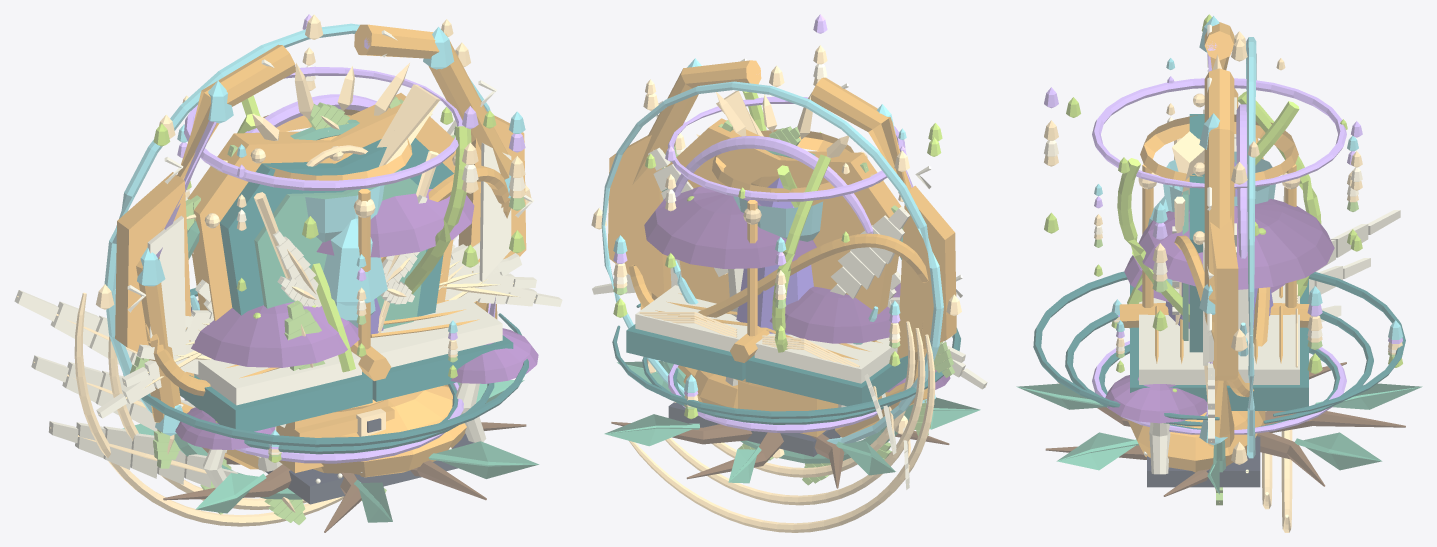
File: spell-redesign.glb
The picture shows the model from 3 angles, left to right: view 1: azimuth 30°, elevation 25°; view 2: azimuth 150°, elevation 25°; view 3: azimuth 270°, elevation 25°; orthographic projection. The views are drawn at different scales.
Parts seen in each view (by area): view 1: Spell_titans_edict_core, Spell_edict_of_the_dawn_core, Spell_poison_cloud_core, Spell_blink_ring, Spell_titans_edict_wing, Spell_lighspeed_core, Spell_roll_ribbon, Spell_poison_cloud_ring, Spell_eternal_edict_orbit, Spell_edict_of_the_dawn_orbit, Spell_lighspeed_ribbon, Spell_lighspeed_wing (+18 smaller); view 2: Spell_edict_of_the_dawn_core, Spell_poison_cloud_core, Spell_titans_edict_wing, Spell_titans_edict_core, Spell_lighspeed_ribbon, Spell_poison_cloud_ring, Spell_blink_ring, Spell_titans_edict_ring, Spell_lighspeed_core, Spell_eternal_edict_core, Spell_eternal_edict_orbit, Spell_edict_of_the_dawn_orbit (+17 smaller); view 3: Spell_poison_cloud_core, Spell_edict_of_the_dawn_core, Spell_poison_cloud_ring, Spell_blink_ring, Spell_edict_of_the_dawn_orbit, Spell_eternal_edict_orbit, Spell_eternal_edict_core, Spell_lighspeed_core, Spell_poison_cloud_ribbon, Spell_titans_edict_wing, Spell_titans_edict_core, Spell_titans_edict_ring (+14 smaller).
Boxes of the visible parts, bbox=[...] form: Spell_titans_edict_core: bbox=[187, 93, 455, 333]; Spell_edict_of_the_dawn_core: bbox=[179, 295, 513, 431]; Spell_poison_cloud_core: bbox=[175, 189, 538, 488]; Spell_blink_ring: bbox=[136, 24, 512, 469]; Spell_titans_edict_wing: bbox=[115, 111, 526, 376]; Spell_lighspeed_core: bbox=[265, 300, 474, 504]; Spell_roll_ribbon: bbox=[14, 290, 285, 487]; Spell_poison_cloud_ring: bbox=[122, 380, 539, 532]; Spell_eternal_edict_orbit: bbox=[184, 66, 463, 463]; Spell_edict_of_the_dawn_orbit: bbox=[123, 288, 528, 454]; Spell_lighspeed_ribbon: bbox=[74, 292, 344, 526]; Spell_lighspeed_wing: bbox=[96, 235, 562, 418]; Spell_edict_of_the_dawn_core: bbox=[626, 285, 945, 406]; Spell_poison_cloud_core: bbox=[644, 186, 950, 407]; Spell_titans_edict_wing: bbox=[608, 135, 956, 358]; Spell_titans_edict_core: bbox=[666, 118, 901, 341]; Spell_lighspeed_ribbon: bbox=[629, 321, 935, 532]; Spell_poison_cloud_ring: bbox=[604, 361, 980, 488]; Spell_blink_ring: bbox=[632, 58, 936, 437]; Spell_titans_edict_ring: bbox=[601, 81, 943, 444]; Spell_lighspeed_core: bbox=[668, 370, 840, 456]; Spell_eternal_edict_core: bbox=[712, 129, 853, 389]; Spell_eternal_edict_orbit: bbox=[667, 96, 905, 432]; Spell_edict_of_the_dawn_orbit: bbox=[612, 303, 960, 424]; Spell_poison_cloud_core: bbox=[1105, 199, 1334, 474]; Spell_edict_of_the_dawn_core: bbox=[1119, 278, 1310, 410]; Spell_poison_cloud_ring: bbox=[1016, 328, 1422, 496]; Spell_blink_ring: bbox=[1199, 16, 1234, 447]; Spell_edict_of_the_dawn_orbit: bbox=[1033, 271, 1405, 429]; Spell_eternal_edict_orbit: bbox=[1092, 78, 1346, 434]; Spell_eternal_edict_core: bbox=[1138, 114, 1300, 307]; Spell_lighspeed_core: bbox=[1128, 411, 1265, 487]; Spell_poison_cloud_ribbon: bbox=[1117, 91, 1321, 321]; Spell_titans_edict_wing: bbox=[1203, 88, 1238, 385]; Spell_titans_edict_core: bbox=[1148, 93, 1204, 352]; Spell_titans_edict_ring: bbox=[1246, 37, 1256, 458].
Bounding box in the file's own units: 2.43 × 2.64 × 2.05.
